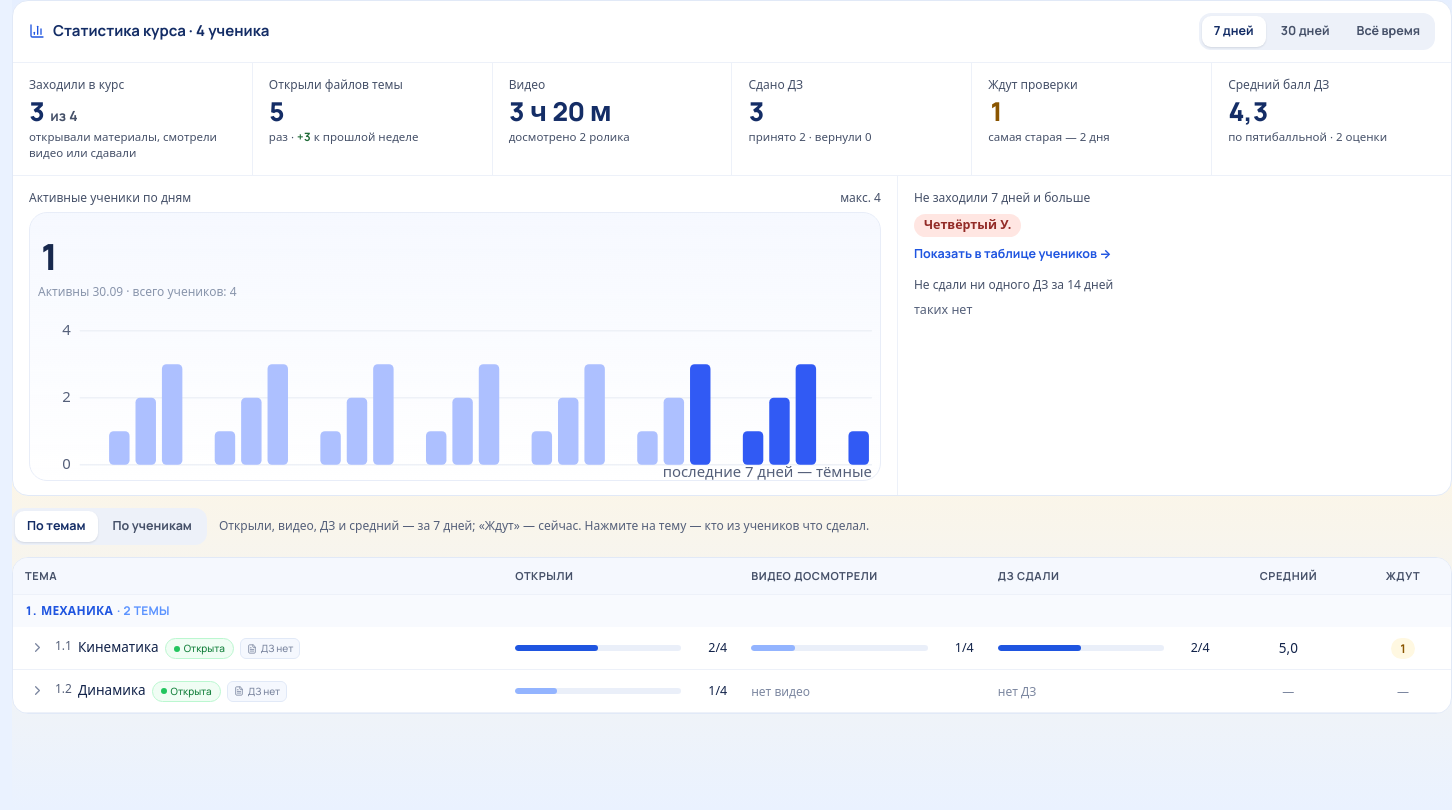
it: CourseStatsSection (§242) › период: «Всё время» перезапрашивает, пишет «считаем с 13 августа» и запоминается
Click the button "Всё время": [1388, 31] box 1344,16 -> 1432,47
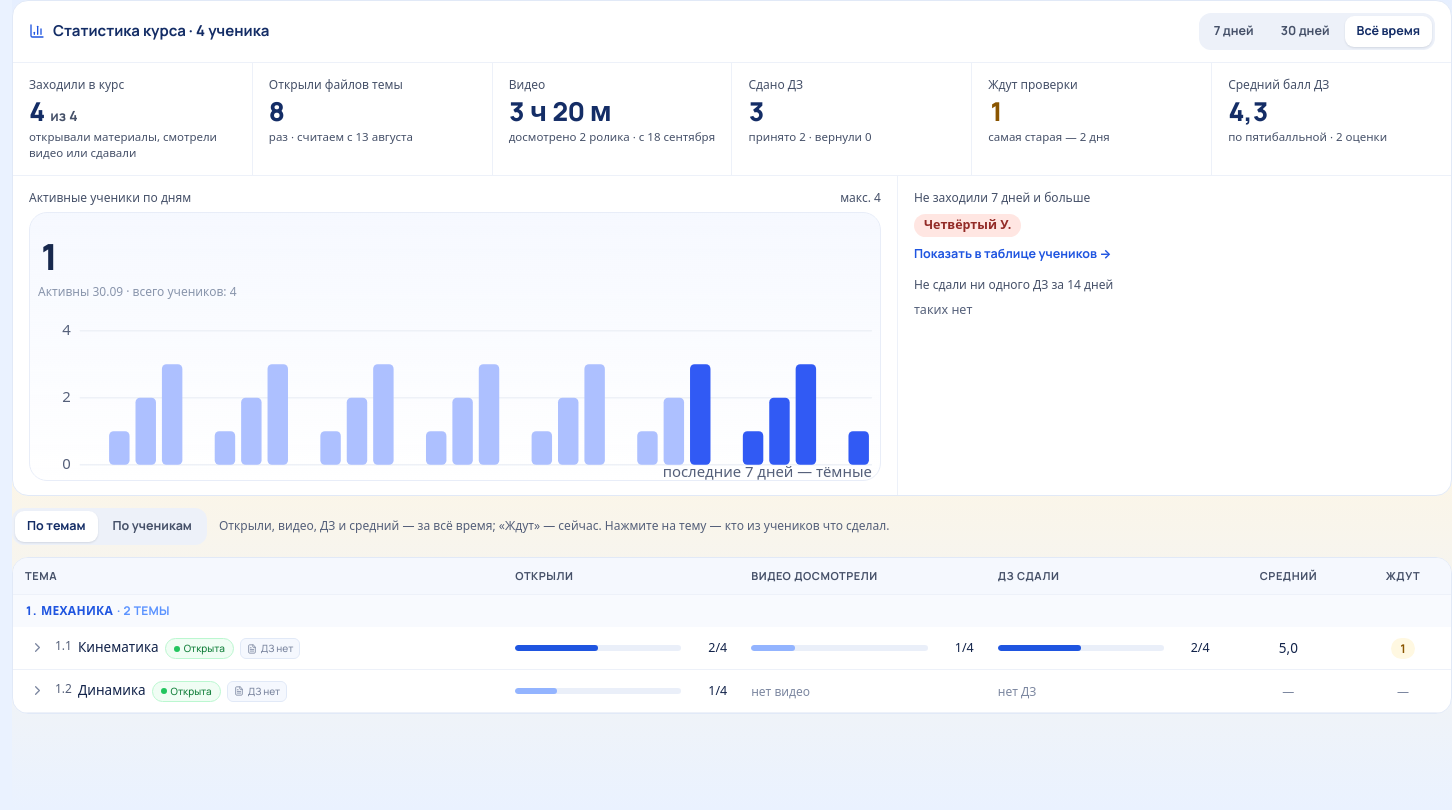
Result: the element with test id "stats-tile-views" shows "считаем с 13 августа" at 253,63 -> 492,175
Result: the element with test id "stats-tile-video" shows "с 18 сентября" at 493,63 -> 732,175
